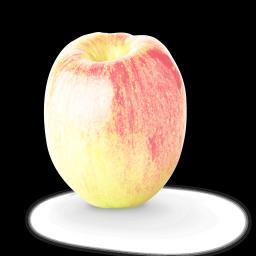apple: (41, 21, 206, 229)
